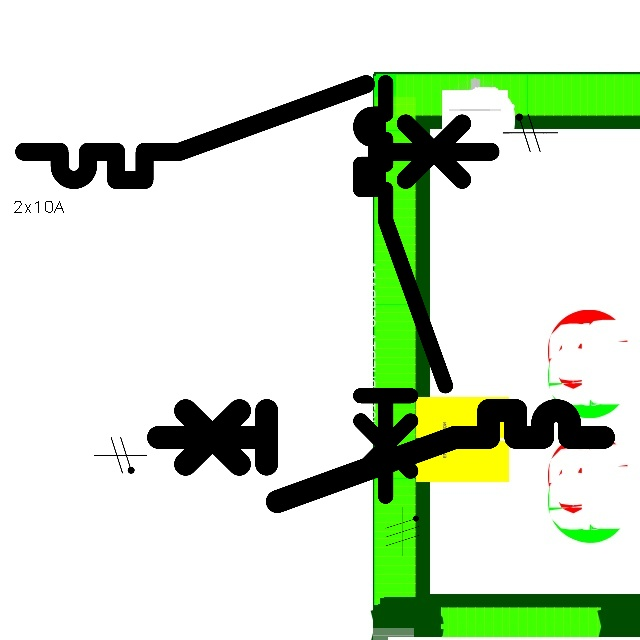interruptor_termomagnetico: (12, 72, 502, 192), (146, 399, 614, 513), (350, 72, 456, 506)
